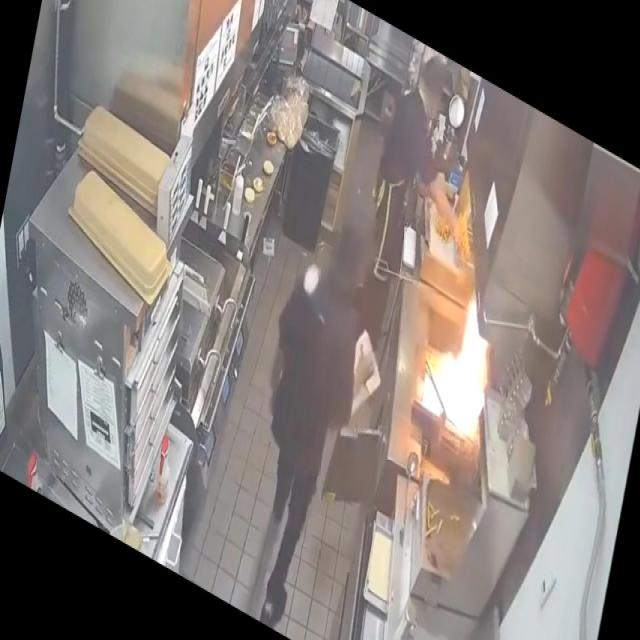fire: (402, 257, 510, 475)
